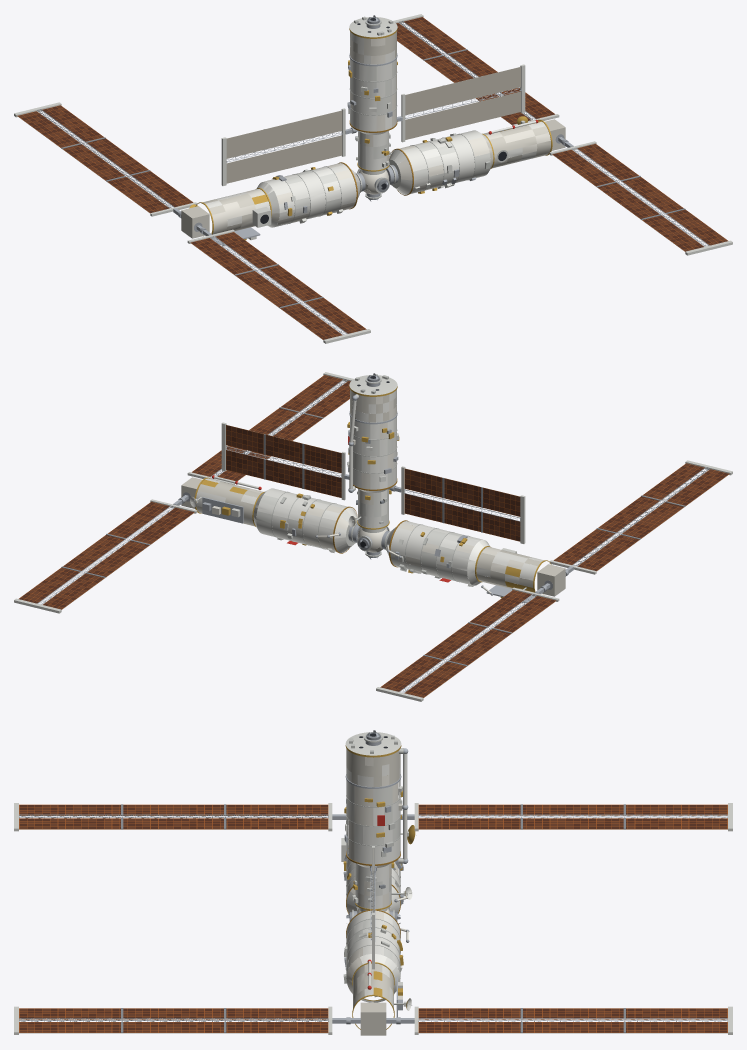
The model's file is tiangong.glb.
3 views of the same model, one above another, from view 1: azimuth 30°, elevation 25°; view 2: azimuth 150°, elevation 25°; view 3: azimuth 270°, elevation 25° (orthographic). The views are drawn at different scales.
Parts seen in each view (by area): view 1: body, solar-panel, foil; view 2: solar-panel, body, foil; view 3: solar-panel, body, foil.
Part boxes in pixels (x1,y1,x2,y2): body: (14, 14, 732, 343); solar-panel: (17, 17, 727, 339); foil: (181, 28, 565, 240); solar-panel: (19, 375, 729, 697); body: (14, 372, 732, 701); foil: (181, 386, 565, 598); solar-panel: (19, 804, 727, 1032); body: (14, 730, 732, 1034); foil: (343, 745, 415, 1035).
Size of the model in its own units: 42.1 by 18.82 by 55.8.
